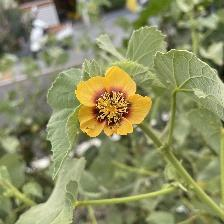indian mallow: (75, 66, 153, 140)
